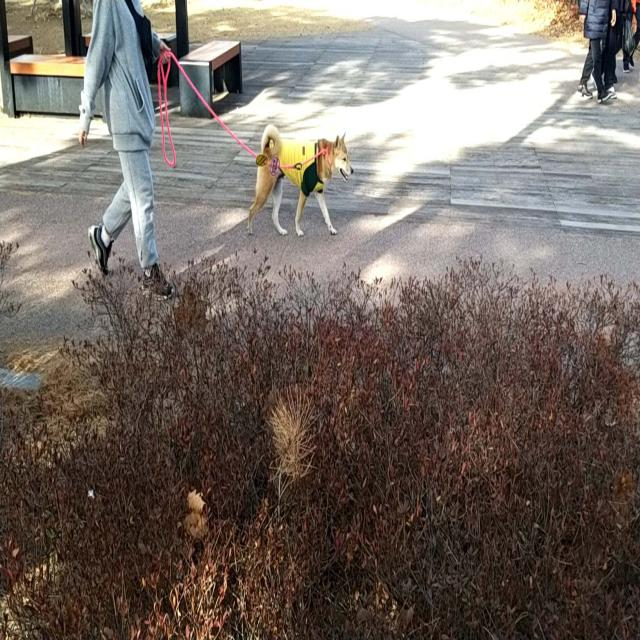Leashed_Dog: (130, 52, 353, 237)
